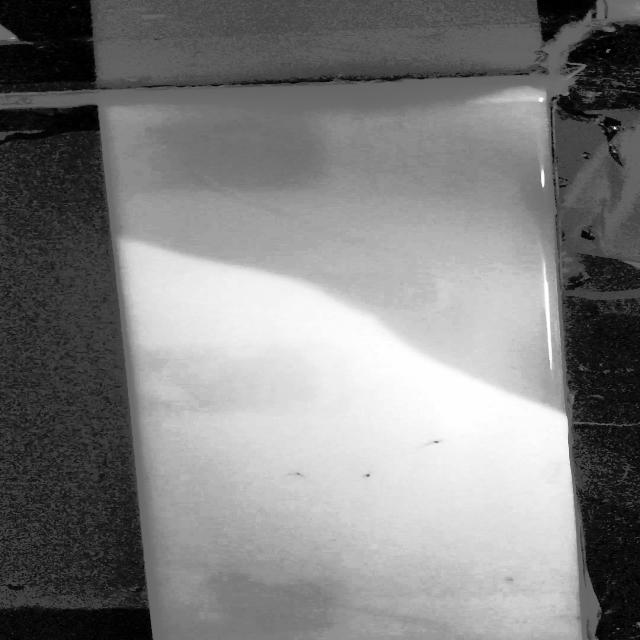shrimp: (416, 435, 453, 451), (355, 470, 380, 483)
